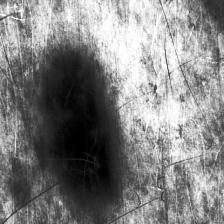Benign Marking or Mole: (47, 62, 121, 192)
